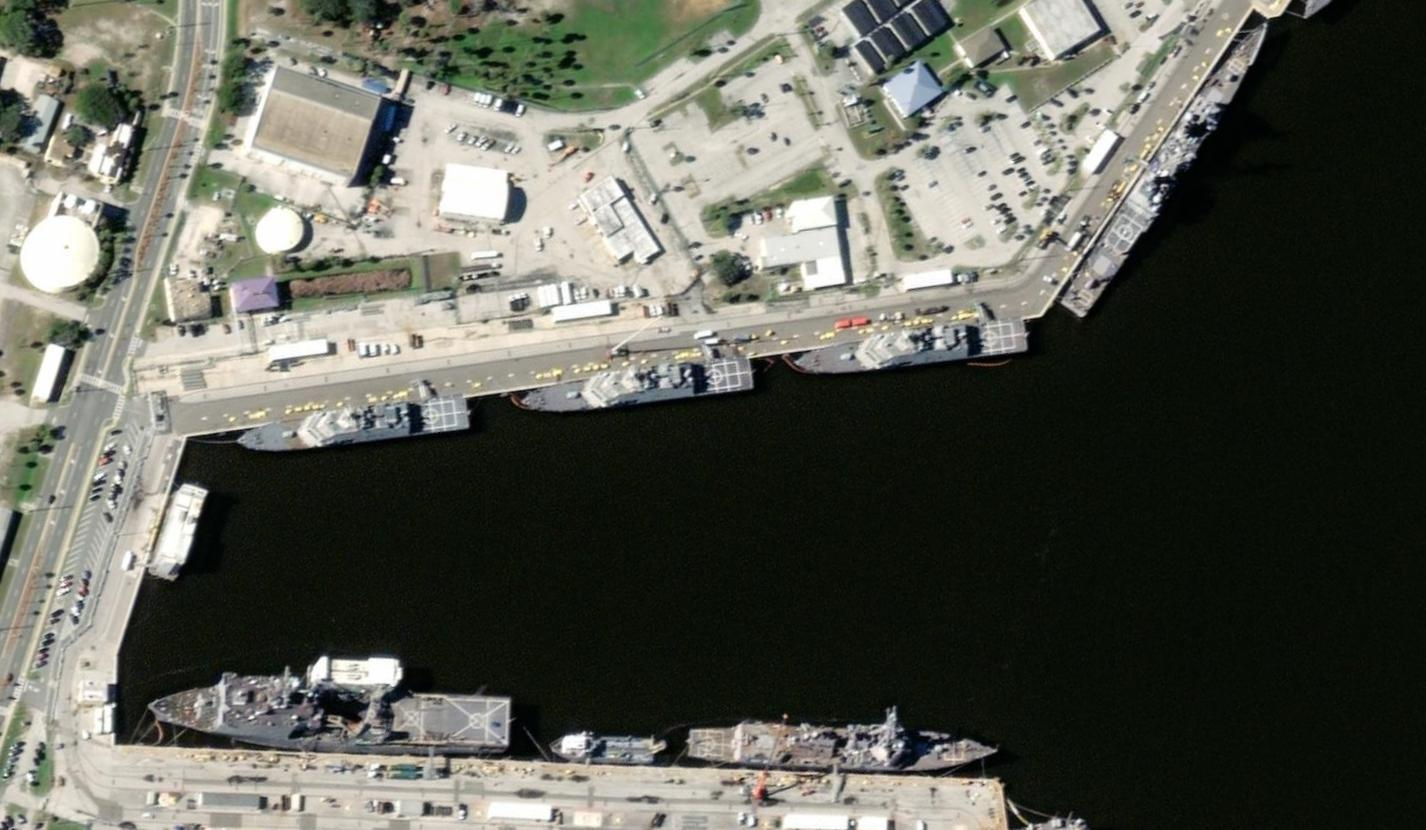amphiby: (137, 666, 518, 762)
cruiser: (1057, 22, 1271, 329)
fregate: (674, 714, 1006, 782)
patrol: (232, 386, 476, 458), (517, 346, 760, 415), (791, 314, 1038, 377)
